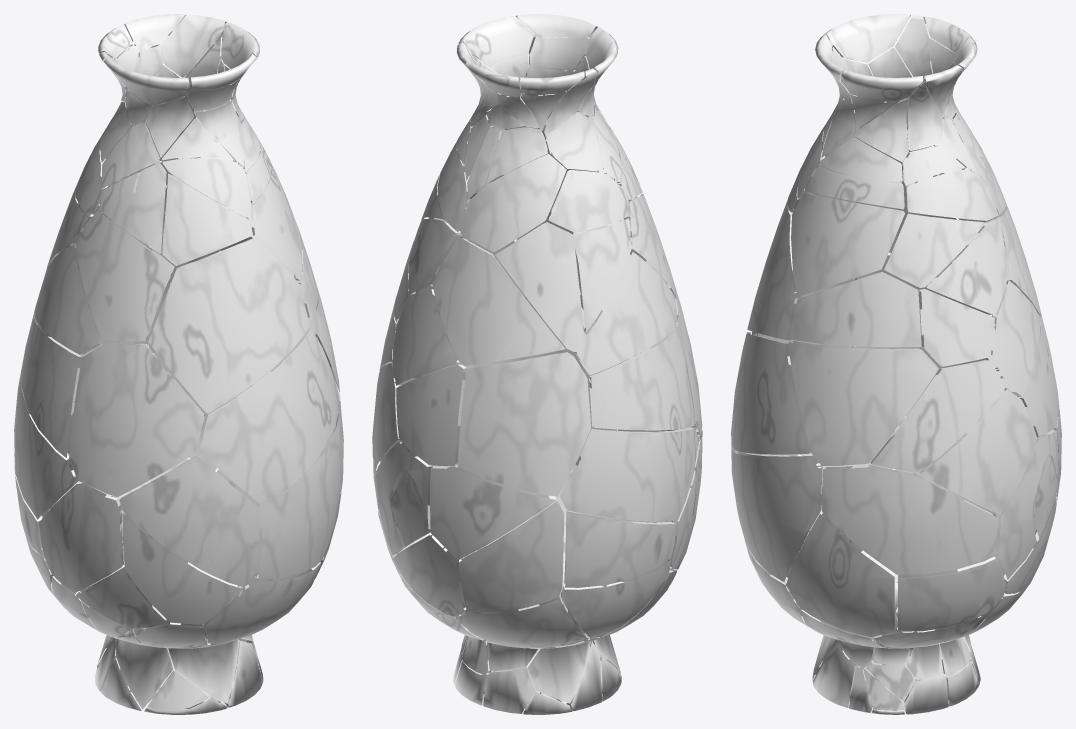
The model's file is CeramicVase-Shattered.fbx.
3 renders of one model, left to right at view 1: azimuth 30°, elevation 25°; view 2: azimuth 150°, elevation 25°; view 3: azimuth 270°, elevation 25°, orthographic.
Parts seen in each view (by area): view 1: Vase_cell.065, Vase_cell.080, Vase_cell.007, Vase_cell.074, Vase_cell.062, Vase_cell.014, Vase_cell.066, Vase_cell.013, Vase_cell.059, Vase_cell.052, Vase_cell.078, Vase_cell.022 (+39 smaller); view 2: Vase_cell.097, Vase_cell.022, Vase_cell.015, Vase_cell.012, Vase_cell.059, Vase_cell.069, Vase_cell.078, Vase_cell.063, Vase_cell.030, Vase_cell.026, Vase_cell.011, Vase_cell.077 (+43 smaller); view 3: Vase_cell.044, Vase_cell.008, Vase_cell.050, Vase_cell.014, Vase_cell.058, Vase_cell.061, Vase_cell.049, Vase_cell.002, Vase_cell.007, Vase_cell.038, Vase_cell.020, Vase_cell.075 (+41 smaller).
Boxes of the visible parts, box(x1,y1,x2,y2) form: Vase_cell.065: box(148, 238, 309, 413); Vase_cell.080: box(69, 343, 204, 496); Vase_cell.007: box(199, 328, 339, 505); Vase_cell.074: box(119, 455, 259, 587); Vase_cell.062: box(76, 211, 174, 341); Vase_cell.014: box(255, 405, 343, 578); Vase_cell.066: box(39, 483, 123, 592); Vase_cell.013: box(122, 512, 242, 624); Vase_cell.059: box(21, 314, 82, 457); Vase_cell.052: box(162, 173, 252, 265); Vase_cell.078: box(34, 245, 105, 354); Vase_cell.022: box(14, 367, 78, 519); Vase_cell.097: box(457, 352, 590, 496); Vase_cell.022: box(560, 427, 698, 522); Vase_cell.015: box(432, 236, 565, 365); Vase_cell.012: box(458, 501, 563, 612); Vase_cell.059: box(589, 328, 694, 430); Vase_cell.069: box(430, 466, 556, 560); Vase_cell.078: box(574, 252, 676, 375); Vase_cell.063: box(564, 511, 676, 587); Vase_cell.030: box(495, 221, 583, 351); Vase_cell.026: box(460, 154, 566, 252); Vase_cell.011: box(396, 364, 466, 466); Vase_cell.077: box(456, 596, 589, 648); Vase_cell.044: box(821, 465, 997, 574); Vase_cell.008: box(788, 341, 938, 465); Vase_cell.050: box(786, 513, 894, 636); Vase_cell.014: box(731, 449, 822, 581); Vase_cell.058: box(791, 193, 904, 296); Vase_cell.061: box(789, 272, 921, 347); Vase_cell.049: box(919, 389, 1037, 514); Vase_cell.002: box(870, 359, 1005, 472); Vase_cell.007: box(731, 332, 811, 454); Vase_cell.038: box(898, 557, 1005, 631); Vase_cell.020: box(884, 213, 985, 287); Vase_cell.075: box(926, 217, 1007, 315).
Bounding box in the file's own units: 123 × 260 × 123.
Materials: 1 (1 with a texture image).
